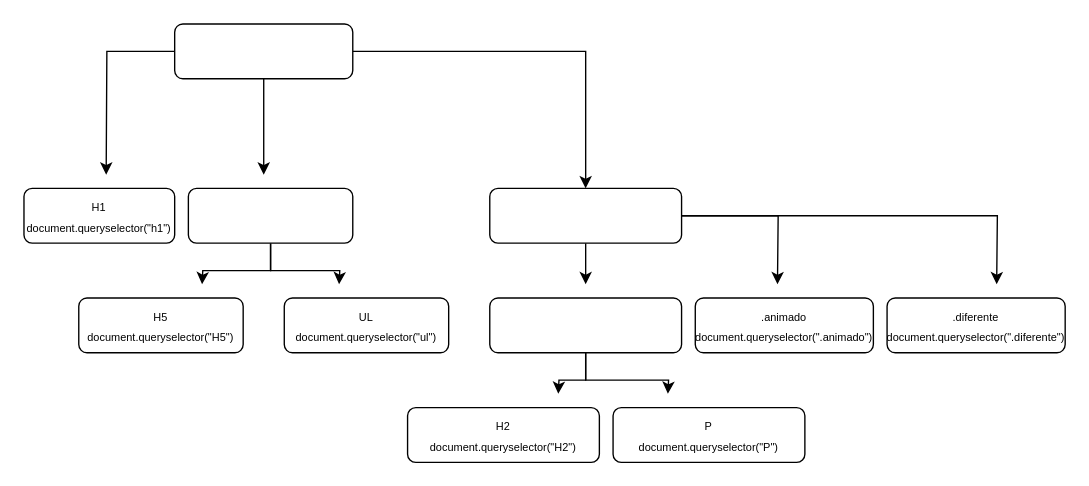
This 1089x486 diagram has some shape labels left out. Here are the shapes that lost their labels. From the top down, the centre of each, then its label:
pixel 263 51: body document.queryselector("body")
pixel 270 215: DIV document.queryselector("div")
pixel 585 215: SECTION document.queryselector("section")
pixel 585 325: ARTICLE document.queryselectorl("article")
